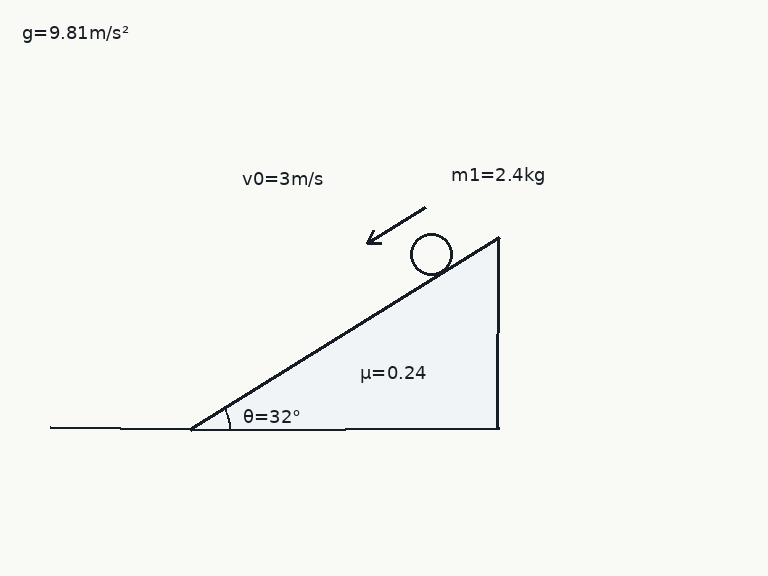ball: (408, 231, 454, 277)
ramp: (188, 235, 500, 431)
